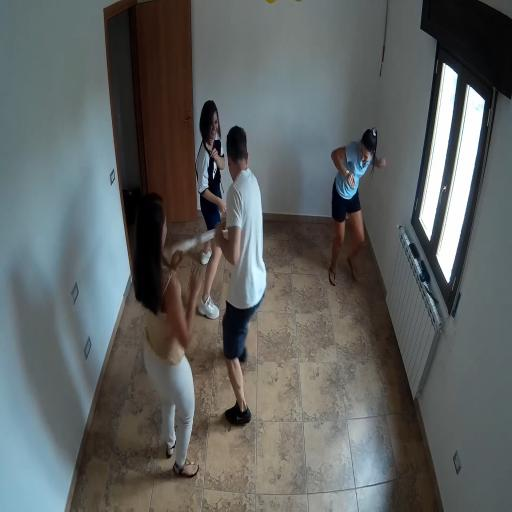violencia: (106, 84, 282, 491)
